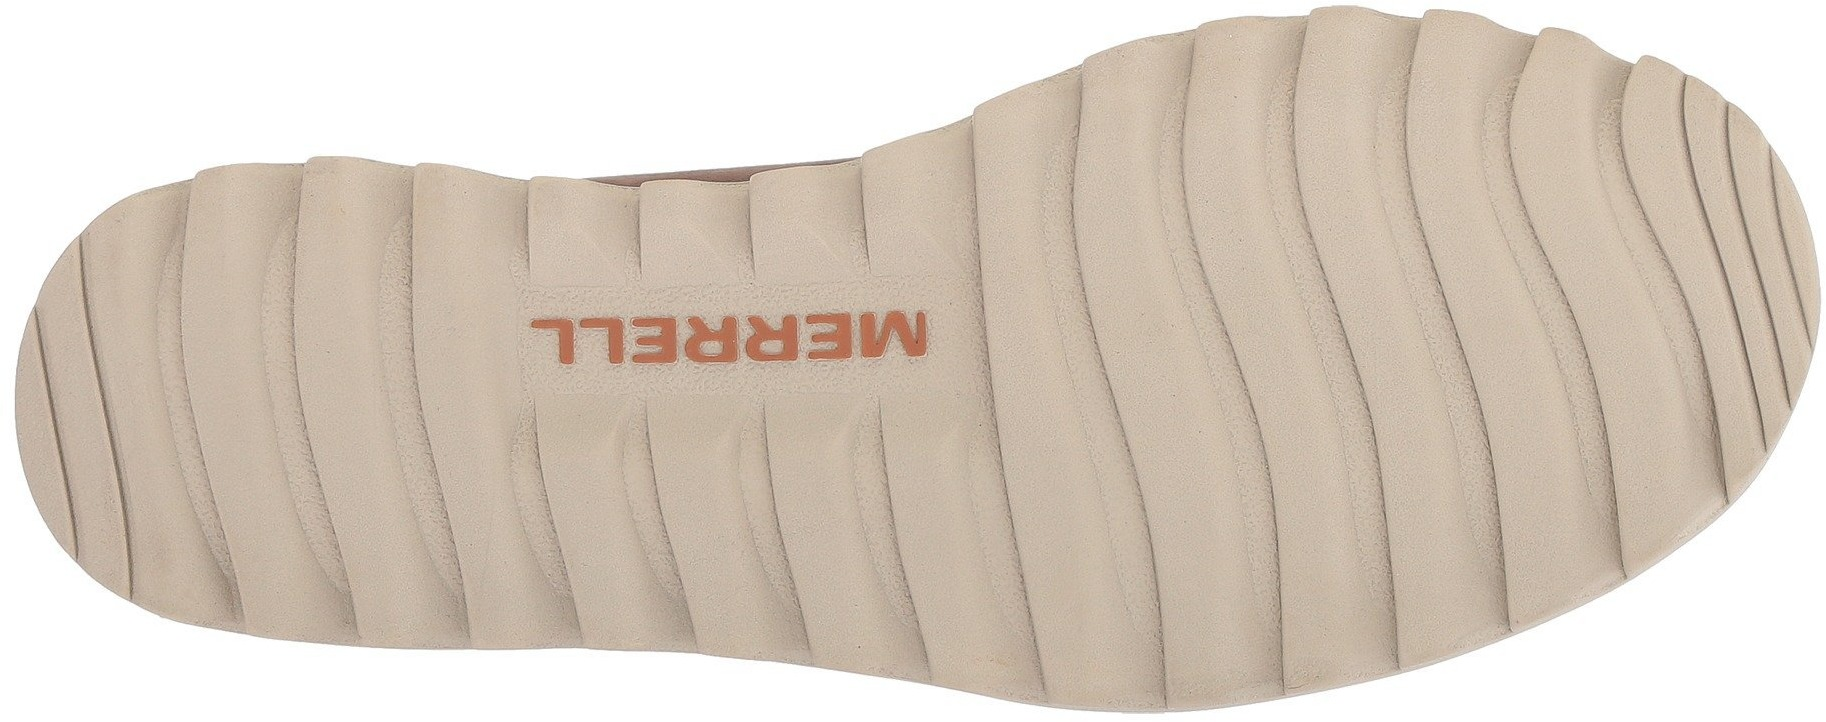quad: (962, 134, 1328, 495), (1364, 119, 1705, 468), (144, 234, 439, 533), (693, 423, 943, 643), (452, 406, 675, 645), (970, 500, 1197, 698), (1347, 470, 1520, 651)
text: (685, 286, 809, 411), (555, 295, 675, 396), (826, 285, 928, 374)
